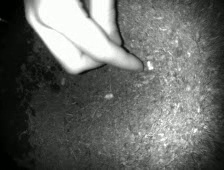corn: (145, 59, 156, 73), (102, 90, 115, 101), (58, 76, 67, 86)
